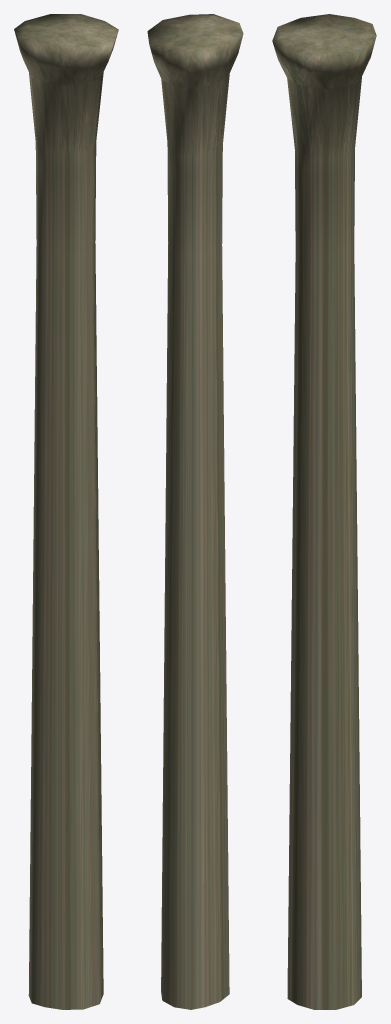
Rendered from OVERHILL_A_01_PLATFORM_13.fbx.
3 views of the same model, side by side, from view 1: azimuth 90°, elevation 25°; view 2: azimuth 150°, elevation 25°; view 3: azimuth 270°, elevation 25° (orthographic).
Visible parts, largest first — view 1: OVERHILL_A_01_PLATFORM_13; view 2: OVERHILL_A_01_PLATFORM_13; view 3: OVERHILL_A_01_PLATFORM_13.
Part boxes in pixels (x1,y1,x2,y2): OVERHILL_A_01_PLATFORM_13: [14, 14, 118, 1009]; OVERHILL_A_01_PLATFORM_13: [147, 14, 243, 1009]; OVERHILL_A_01_PLATFORM_13: [272, 14, 376, 1009].
Bounding box in the file's own units: 21315 × 254131 × 24942.
1 material, 1 textured.
